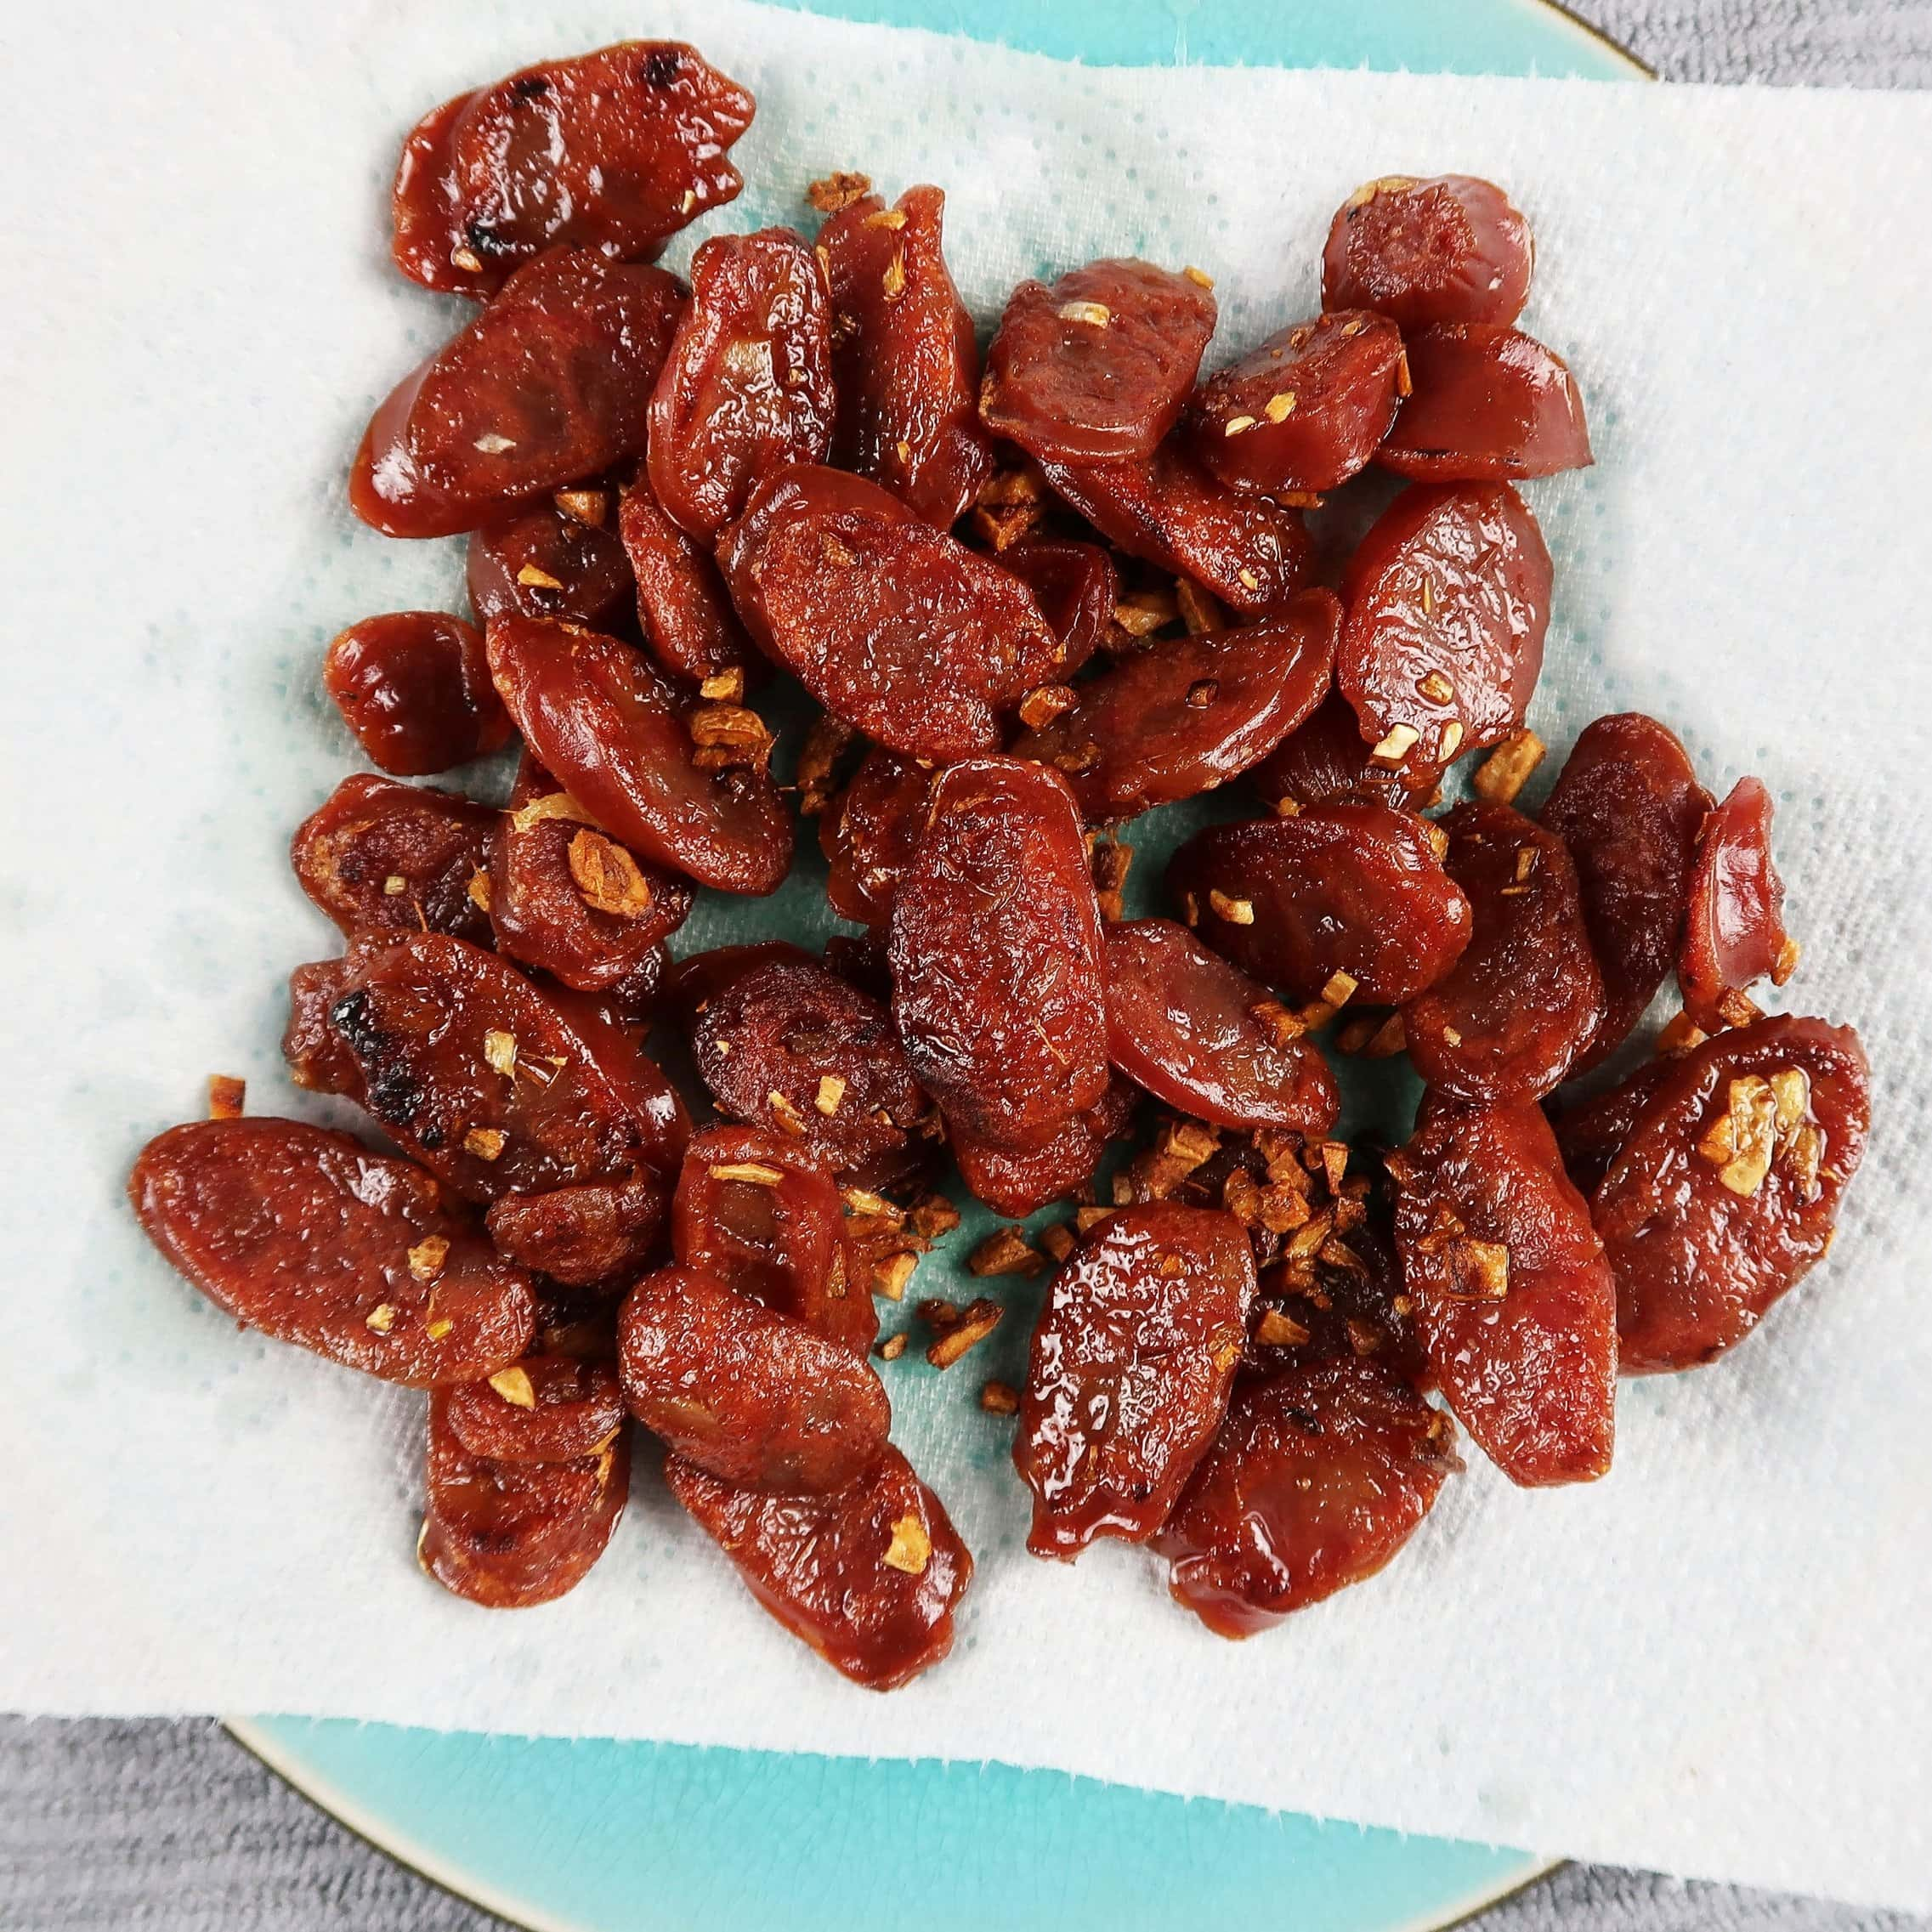chinese_sausage: (1576, 1024, 1867, 1405), (1375, 1108, 1640, 1486), (391, 258, 708, 541), (718, 490, 1046, 755), (147, 1108, 494, 1357), (1398, 789, 1642, 1136), (352, 58, 748, 260), (357, 968, 653, 1219), (1315, 518, 1583, 794), (890, 773, 1083, 1109), (1001, 1194, 1196, 1527), (506, 644, 766, 886), (1056, 577, 1311, 823), (694, 1442, 978, 1640), (1553, 725, 1741, 1019), (1217, 1373, 1431, 1614), (681, 235, 846, 527), (419, 1323, 626, 1555), (264, 619, 557, 782), (824, 211, 991, 485), (1157, 345, 1435, 497), (1145, 934, 1322, 1166), (1031, 280, 1247, 460), (446, 529, 630, 734), (683, 962, 869, 1157), (258, 796, 481, 950), (1375, 347, 1598, 499), (1332, 198, 1548, 345), (492, 782, 646, 968), (1700, 807, 1821, 1017), (651, 1297, 823, 1444)
